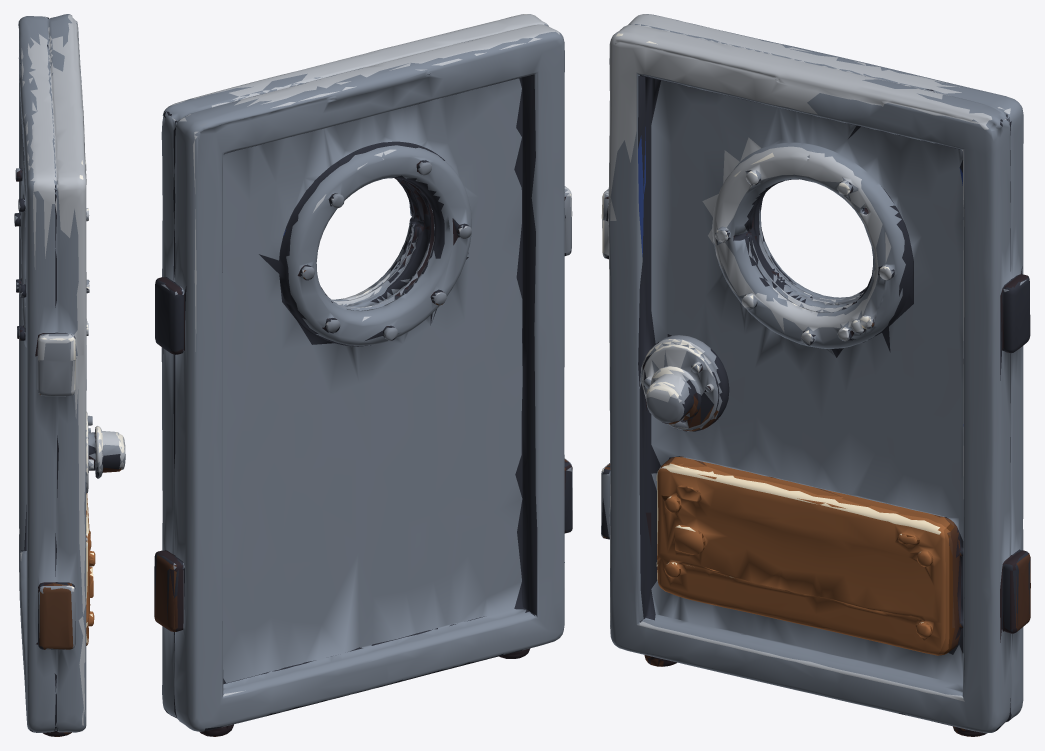
Rendered from SM_door_metal.fbx.
3 renders of one model, left to right at view 1: azimuth 30°, elevation 25°; view 2: azimuth 150°, elevation 25°; view 3: azimuth 270°, elevation 25°, orthographic. The views are drawn at different scales.
Parts seen in each view (by area): view 1: SM_door_metal; view 2: SM_door_metal; view 3: SM_door_metal.
Boxes of the visible parts, bbox=[...] form: SM_door_metal: bbox=[14, 14, 125, 736]; SM_door_metal: bbox=[154, 14, 572, 736]; SM_door_metal: bbox=[601, 14, 1030, 736].
Bounding box in the file's own units: 76.11 × 200 × 123.
Materials: 1 (1 with a texture image).
